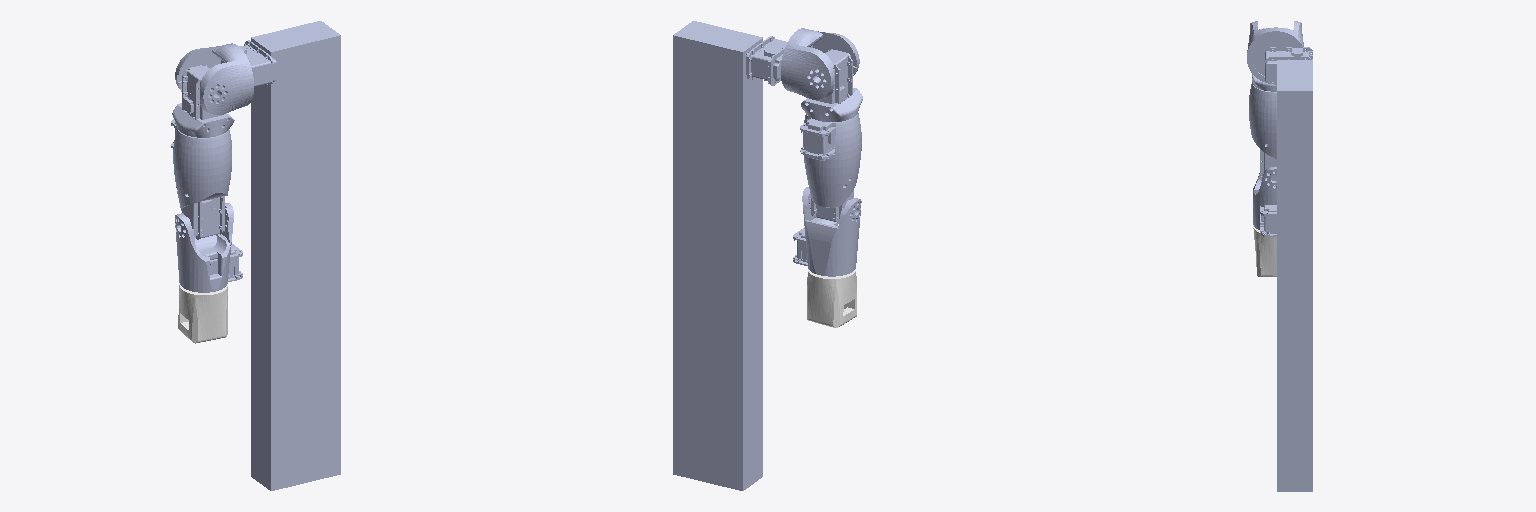
robot.urdf — hdt_arm:
<?xml version="1.0" encoding="utf-8"?>
<!-- This URDF was automatically created by SolidWorks to URDF Exporter! Originally created by Stephen Brawner (brawner@gmail.com) 
     Commit Version: 1.6.0-4-g7f85cfe  Build Version: 1.6.7995.38578
     For more information, please see http://wiki.ros.org/sw_urdf_exporter -->
  <robot
    name="hdt_arm">
    
  <link name="world"/>
  
  <joint name="world_to_base" type="fixed">
    <parent link="world"/>
    <child link="base_link"/>
  </joint>
  
  <link
    name="base_link">
    <inertial>
      <origin
        xyz="-0.00185265442989896 0.000124881747033144 0.307106424185721"
        rpy="0 0 0" />
      <mass
        value="3.08474382724207" />
      <inertia
        ixx="0.0906570966744558"
        ixy="3.69583657226193E-07"
        ixz="2.15121154278286E-09"
        iyy="0.092521893742773"
        iyz="1.74300866658949E-09"
        izz="0.0031647521867604" />
    </inertial>
    <visual>
      <origin
        xyz="0 0 0"
        rpy="0 0 0" />
      <geometry>
        <mesh
          filename="package://hdt_arm_description/meshes/base_link.STL" />
      </geometry>
      <material
        name="">
        <color
          rgba="0.792156862745098 0.819607843137255 0.933333333333333 1" />
      </material>
    </visual>
    <collision>
      <origin
        xyz="0 0 0"
        rpy="0 0 0" />
      <geometry>
        <mesh
          filename="package://hdt_arm_description/meshes/base_link.STL" />
      </geometry>
    </collision>
  </link>
  <link
    name="shoulder_link">
    <inertial>
      <origin
        xyz="-8.64470843933707E-06 4.94185966593008E-08 0.0228817013811624"
        rpy="0 0 0" />
      <mass
        value="0.131804544036158" />
      <inertia
        ixx="9.76911612624426E-05"
        ixy="-5.9935573864212E-10"
        ixz="3.73214819741335E-08"
        iyy="0.000128869663534819"
        iyz="1.00323807987968E-10"
        izz="0.000140540831089039" />
    </inertial>
    <visual>
      <origin
        xyz="0 0 0"
        rpy="0 0 0" />
      <geometry>
        <mesh
          filename="package://hdt_arm_description/meshes/shoulder_link.STL" />
      </geometry>
      <material
        name="">
        <color
          rgba="0.792156862745098 0.819607843137255 0.933333333333333 1" />
      </material>
    </visual>
    <collision>
      <origin
        xyz="0 0 0"
        rpy="0 0 0" />
      <geometry>
        <mesh
          filename="package://hdt_arm_description/meshes/shoulder_link.STL" />
      </geometry>
    </collision>
  </link>
  <joint
    name="shoulder_pitch_joint"
    type="revolute">
    <origin
      xyz="-0.097339 -0.025213 0.5798"
      rpy="1.5708 0.0027023 -1.5708" />
    <parent
      link="base_link" />
    <child
      link="shoulder_link" />
    <axis
      xyz="0 0 1" />
    <limit
      lower="-1.57"
      upper="3.142"
      effort="30"
      velocity="2.5" />
    <dynamics
      damping="3"
      friction="0.3" />
  </joint>
  <link
    name="upperarm1_link">
    <inertial>
      <origin
        xyz="-0.0270974794382298 -0.000335518010162284 -0.000215085285874606"
        rpy="0 0 0" />
      <mass
        value="0.126584658015041" />
      <inertia
        ixx="5.37889563161172E-05"
        ixy="3.69874660150051E-07"
        ixz="2.06968413231269E-07"
        iyy="4.85237849080729E-05"
        iyz="5.57113526327867E-09"
        izz="5.80191581216142E-05" />
    </inertial>
    <visual>
      <origin
        xyz="0 0 0"
        rpy="0 0 0" />
      <geometry>
        <mesh
          filename="package://hdt_arm_description/meshes/upperarm1_link.STL" />
      </geometry>
      <material
        name="">
        <color
          rgba="0.792156862745098 0.819607843137255 0.933333333333333 1" />
      </material>
    </visual>
    <collision>
      <origin
        xyz="0 0 0"
        rpy="0 0 0" />
      <geometry>
        <mesh
          filename="package://hdt_arm_description/meshes/upperarm1_link.STL" />
      </geometry>
    </collision>
  </link>
  <joint
    name="shoulder_roll_joint"
    type="revolute">
    <origin
      xyz="0 0 0.05"
      rpy="0 0.0050003493751645 1.57079632679483" />
    <parent
      link="shoulder_link" />
    <child
      link="upperarm1_link" />
    <axis
      xyz="0 1 0" />
    <limit
      lower="-0.1"
      upper="2.967"
      effort="35"
      velocity="2.5" />
    <dynamics
      damping="3.5"
      friction="0.35" />
  </joint>
  <link
    name="upperarm2_link">
    <inertial>
      <origin
        xyz="0.000642273523111969 -0.00186847295716311 0.0596995610605822"
        rpy="0 0 0" />
      <mass
        value="0.366089716558351" />
      <inertia
        ixx="0.000290203472897758"
        ixy="1.15521440059697E-06"
        ixz="2.1949071021368E-07"
        iyy="0.000291669697328334"
        iyz="3.45228644880983E-05"
        izz="0.000213729682110031" />
    </inertial>
    <visual>
      <origin
        xyz="0 0 0"
        rpy="0 0 0" />
      <geometry>
        <mesh
          filename="package://hdt_arm_description/meshes/upperarm2_link.STL" />
      </geometry>
      <material
        name="">
        <color
          rgba="0.792156862745098 0.819607843137255 0.933333333333333 1" />
      </material>
    </visual>
    <collision>
      <origin
        xyz="0 0 0"
        rpy="0 0 0" />
      <geometry>
        <mesh
          filename="package://hdt_arm_description/meshes/upperarm2_link.STL" />
      </geometry>
    </collision>
  </link>
  <joint
    name="upperarm_joint"
    type="revolute">
    <origin
      xyz="-0.058125 -0.0007019 1.8051E-05"
      rpy="1.5708 1.5699 -1.5708" />
    <parent
      link="upperarm1_link" />
    <child
      link="upperarm2_link" />
    <axis
      xyz="0 0 1" />
    <limit
      lower="-1.57"
      upper="1.57"
      effort="20"
      velocity="3" />
    <dynamics
      damping="1.5"
      friction="0.2" />
  </joint>
  <link
    name="forearm1_link">
    <inertial>
      <origin
        xyz="0.00446939183598116 -0.00186709418557896 0.050046419135702"
        rpy="0 0 0" />
      <mass
        value="0.190624207792798" />
      <inertia
        ixx="0.00010792265733471"
        ixy="1.66343343520877E-06"
        ixz="1.04671109179094E-05"
        iyy="0.000135014500587215"
        iyz="-4.26246418274752E-06"
        izz="0.000103429228625086" />
    </inertial>
    <visual>
      <origin
        xyz="0 0 0"
        rpy="0 0 0" />
      <geometry>
        <mesh
          filename="package://hdt_arm_description/meshes/forearm1_link.STL" />
      </geometry>
      <material
        name="">
        <color
          rgba="0.792156862745098 0.819607843137255 0.933333333333333 1" />
      </material>
    </visual>
    <collision>
      <origin
        xyz="0 0 0"
        rpy="0 0 0" />
      <geometry>
        <mesh
          filename="package://hdt_arm_description/meshes/forearm1_link.STL" />
      </geometry>
    </collision>
  </link>
  <joint
    name="elbow_joint"
    type="revolute">
    <origin
      xyz="0 0.00179999999999941 0.130288231760884"
      rpy="0.0108598638667313 0 0" />
    <parent
      link="upperarm2_link" />
    <child
      link="forearm1_link" />
    <axis
      xyz="1 0 0" />
    <limit
      lower="-1.9"
      upper="0"
      effort="30"
      velocity="2.5" />
    <dynamics
      damping="2.5"
      friction="0.25" />
  </joint>
  <link
    name="forearm2_link">
    <inertial>
      <origin
        xyz="-3.83187311991939E-07 -0.000790994594038724 0.0329193741039864"
        rpy="0 0 0" />
      <mass
        value="0.111412113216521" />
      <inertia
        ixx="7.13738774456359E-05"
        ixy="-3.80430175827502E-12"
        ixz="-1.14269217650218E-09"
        iyy="7.30944697068781E-05"
        iyz="1.1651157781337E-06"
        izz="6.25052820262287E-05" />
    </inertial>
    <visual>
      <origin
        xyz="0 0 0"
        rpy="0 0 0" />
      <geometry>
        <mesh
          filename="package://hdt_arm_description/meshes/forearm2_link.STL" />
      </geometry>
      <material
        name="">
        <color
          rgba="1 1 1 1" />
      </material>
    </visual>
    <collision>
      <origin
        xyz="0 0 0"
        rpy="0 0 0" />
      <geometry>
        <mesh
          filename="package://hdt_arm_description/meshes/forearm2_link.STL" />
      </geometry>
    </collision>
  </link>
  <joint
    name="wrist_joint"
    type="revolute">
    <origin
      xyz="0.00151379184988912 0.000199999999999732 0.0852338392812358"
      rpy="0 0 1.63811711390951" />
    <parent
      link="forearm1_link" />
    <child
      link="forearm2_link" />
    <axis
      xyz="0 0 1" />
    <limit
      lower="-1.57"
      upper="1.57"
      effort="12"
      velocity="3.5" />
    <dynamics
      damping="1"
      friction="0.1" />
  </joint>
</robot>

--- Facts derived from the render (not from the file) ---
The picture shows the robot from 3 angles, left to right: view 1: azimuth 30°, elevation 25°; view 2: azimuth 150°, elevation 25°; view 3: azimuth 270°, elevation 25°; orthographic projection.
Robot: hdt_arm — 7 links, 6 joints (5 revolute, 1 fixed); root link world; default pose: all joints at 0.
Visible links, largest first — view 1: base_link, upperarm2_link, forearm1_link, shoulder_link, forearm2_link, upperarm1_link; view 2: base_link, upperarm2_link, forearm1_link, shoulder_link, forearm2_link, upperarm1_link; view 3: base_link, upperarm2_link, shoulder_link, forearm1_link, forearm2_link.
Boxes of the visible links, x1,y1,x2,y2 form: base_link: (239, 21, 340, 490); upperarm2_link: (171, 119, 231, 239); forearm1_link: (175, 203, 242, 292); shoulder_link: (175, 43, 253, 114); forearm2_link: (178, 284, 227, 343); upperarm1_link: (172, 65, 234, 137); base_link: (673, 21, 786, 490); upperarm2_link: (800, 113, 861, 223); forearm1_link: (793, 187, 861, 276); shoulder_link: (781, 28, 859, 99); forearm2_link: (807, 269, 856, 327); upperarm1_link: (801, 49, 862, 121); base_link: (1265, 47, 1312, 491); upperarm2_link: (1249, 84, 1276, 180); shoulder_link: (1247, 21, 1303, 84); forearm1_link: (1253, 167, 1276, 236); forearm2_link: (1253, 225, 1276, 276).
Bounding box of the posed robot: 0.2347 × 0.0906 × 0.6204 m (x, y, z).
6 mesh visuals loaded from 6 distinct referenced files (6 binary STL).
